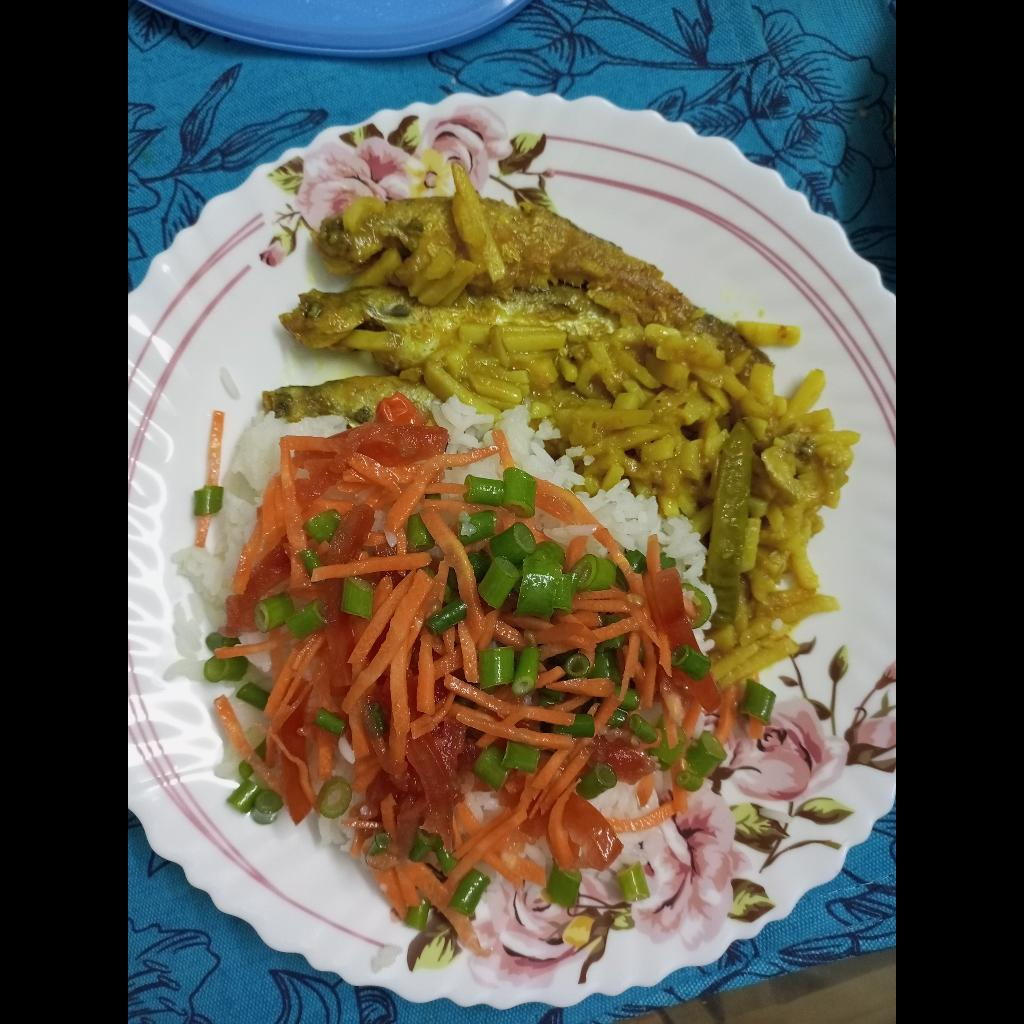carrot: (189, 406, 226, 547)
fish: (257, 155, 765, 427)
potato: (417, 318, 867, 684)
rice: (434, 396, 714, 605), (165, 403, 283, 691)
salad: (200, 392, 783, 950)
